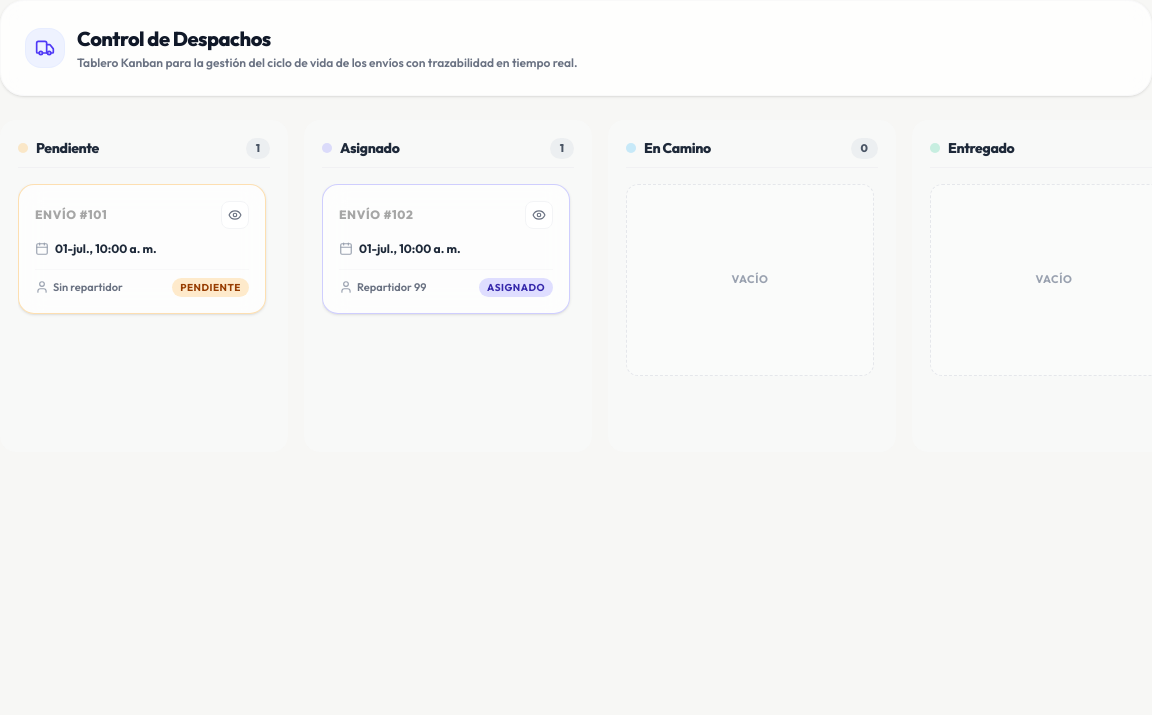
Test: DeliveriesPage › debe abrir el panel de detalles al hacer clic en el botón de ver
The width and height of the screenshot is (1152, 715).
Expected: the text "ENVÍO #101" is shown, 35,206 -> 107,222
Click the 1st button at (235, 214), box 221,200 -> 249,228
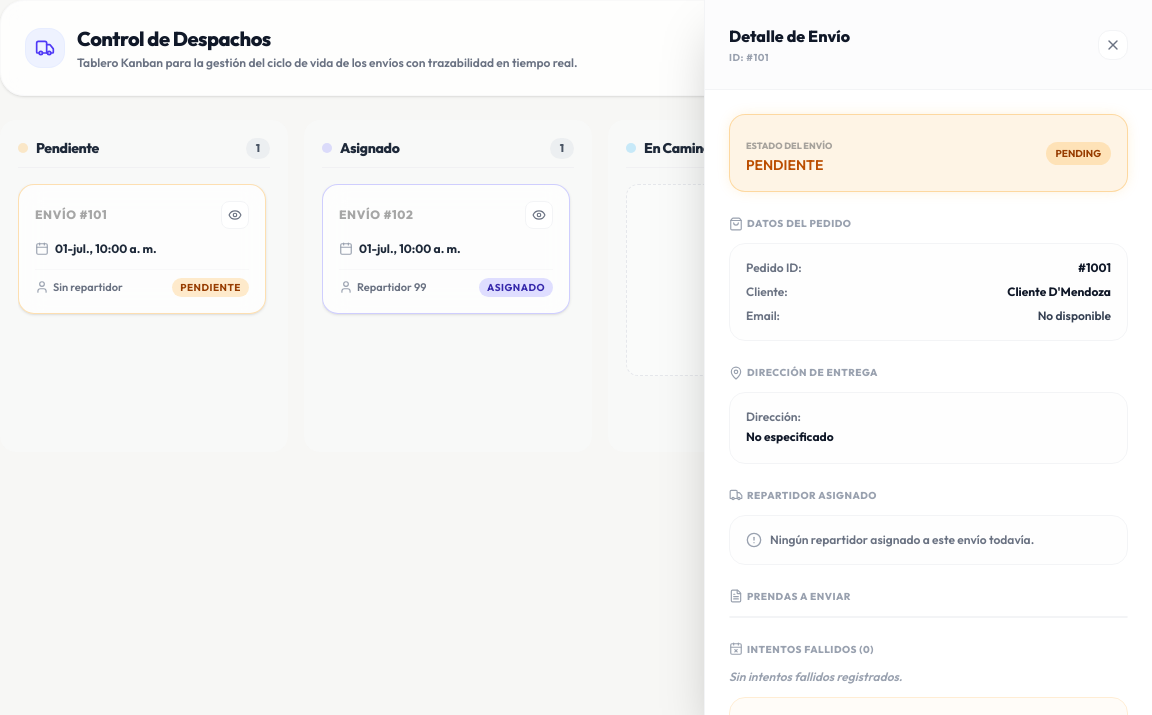
Result: the heading "Detalle de Envío" is shown at 729,24 -> 850,48
Result: the text "Pedido ID:" is shown at 746,260 -> 802,276
Result: the text "#1001" is shown at 1078,260 -> 1111,276
